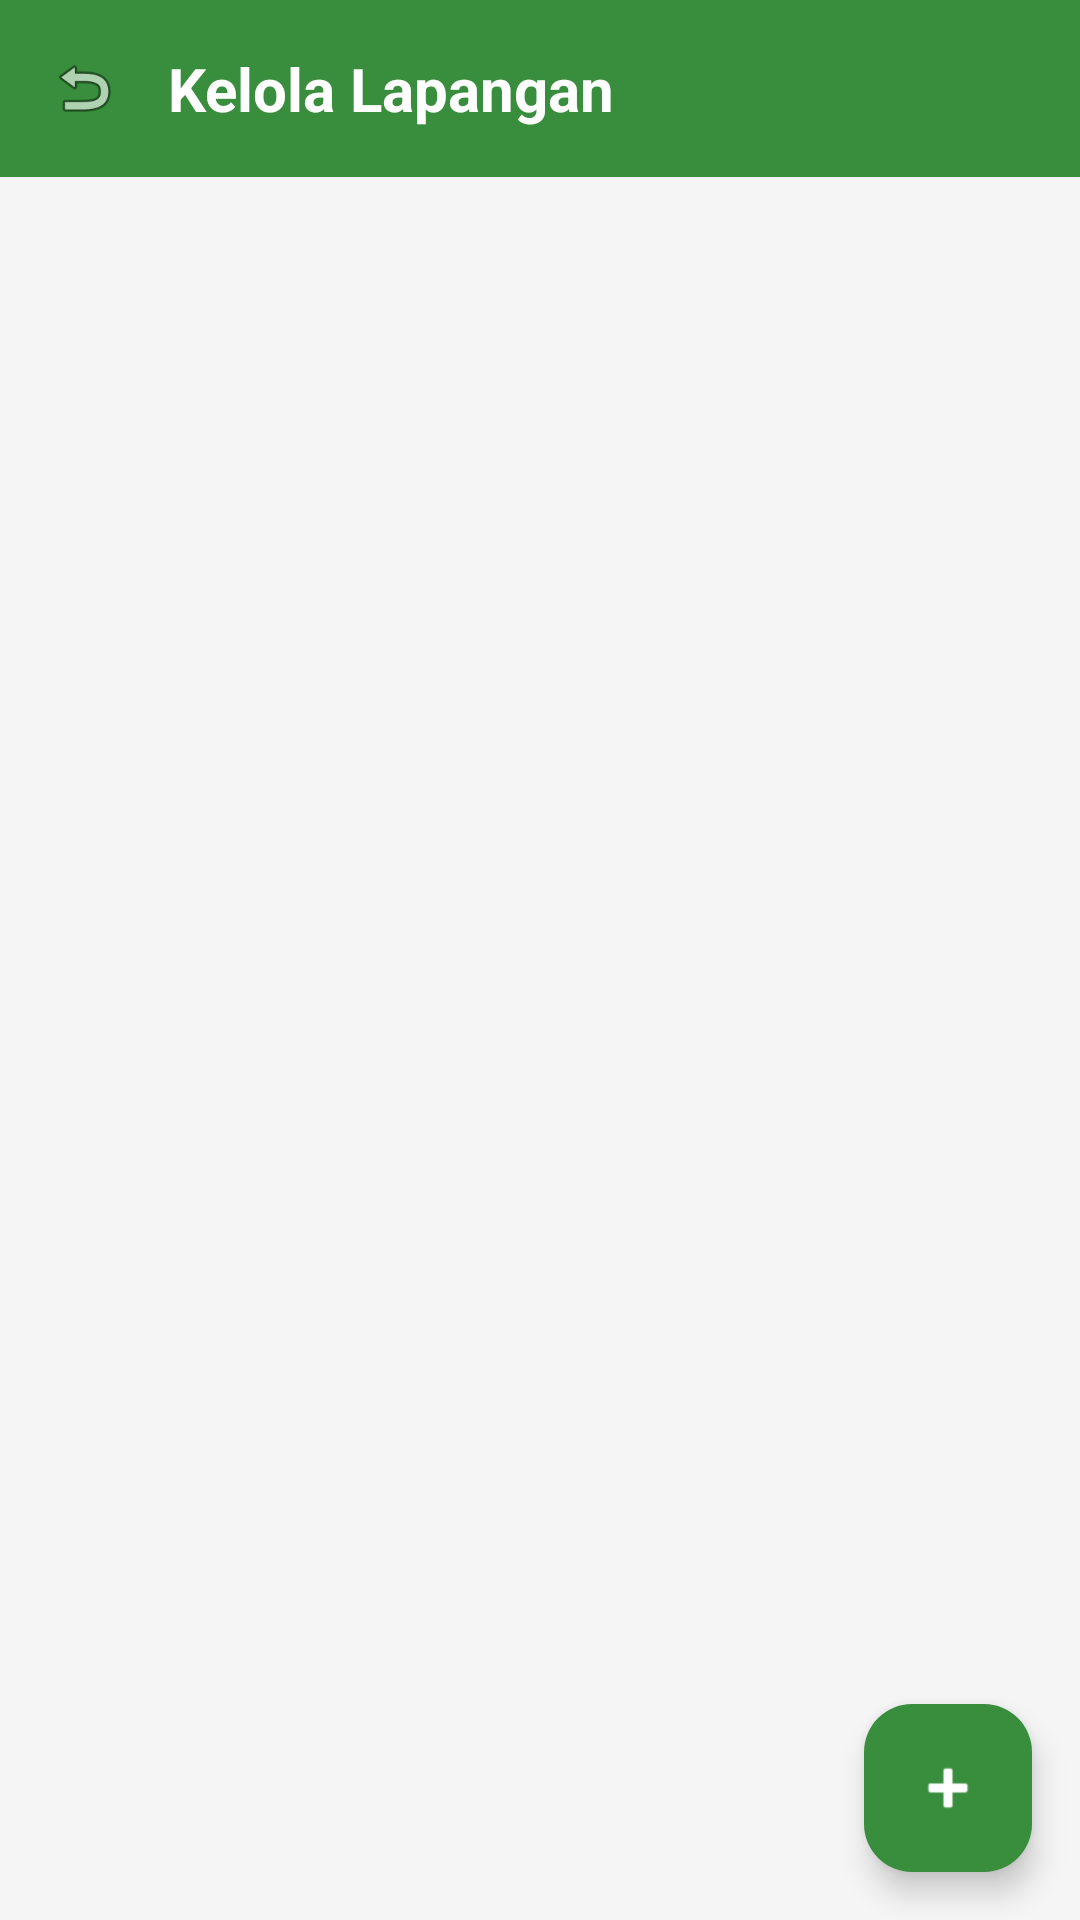

Icon click points for this 1080*1920 phone screenshot, format [x,y]:
Back: [85,88]
Tambah: [948,1788]
